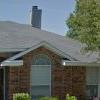Chimney: (22, 2, 42, 26)
